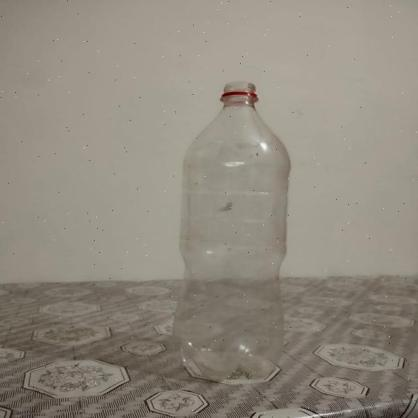bottle: (172, 80, 296, 384)
